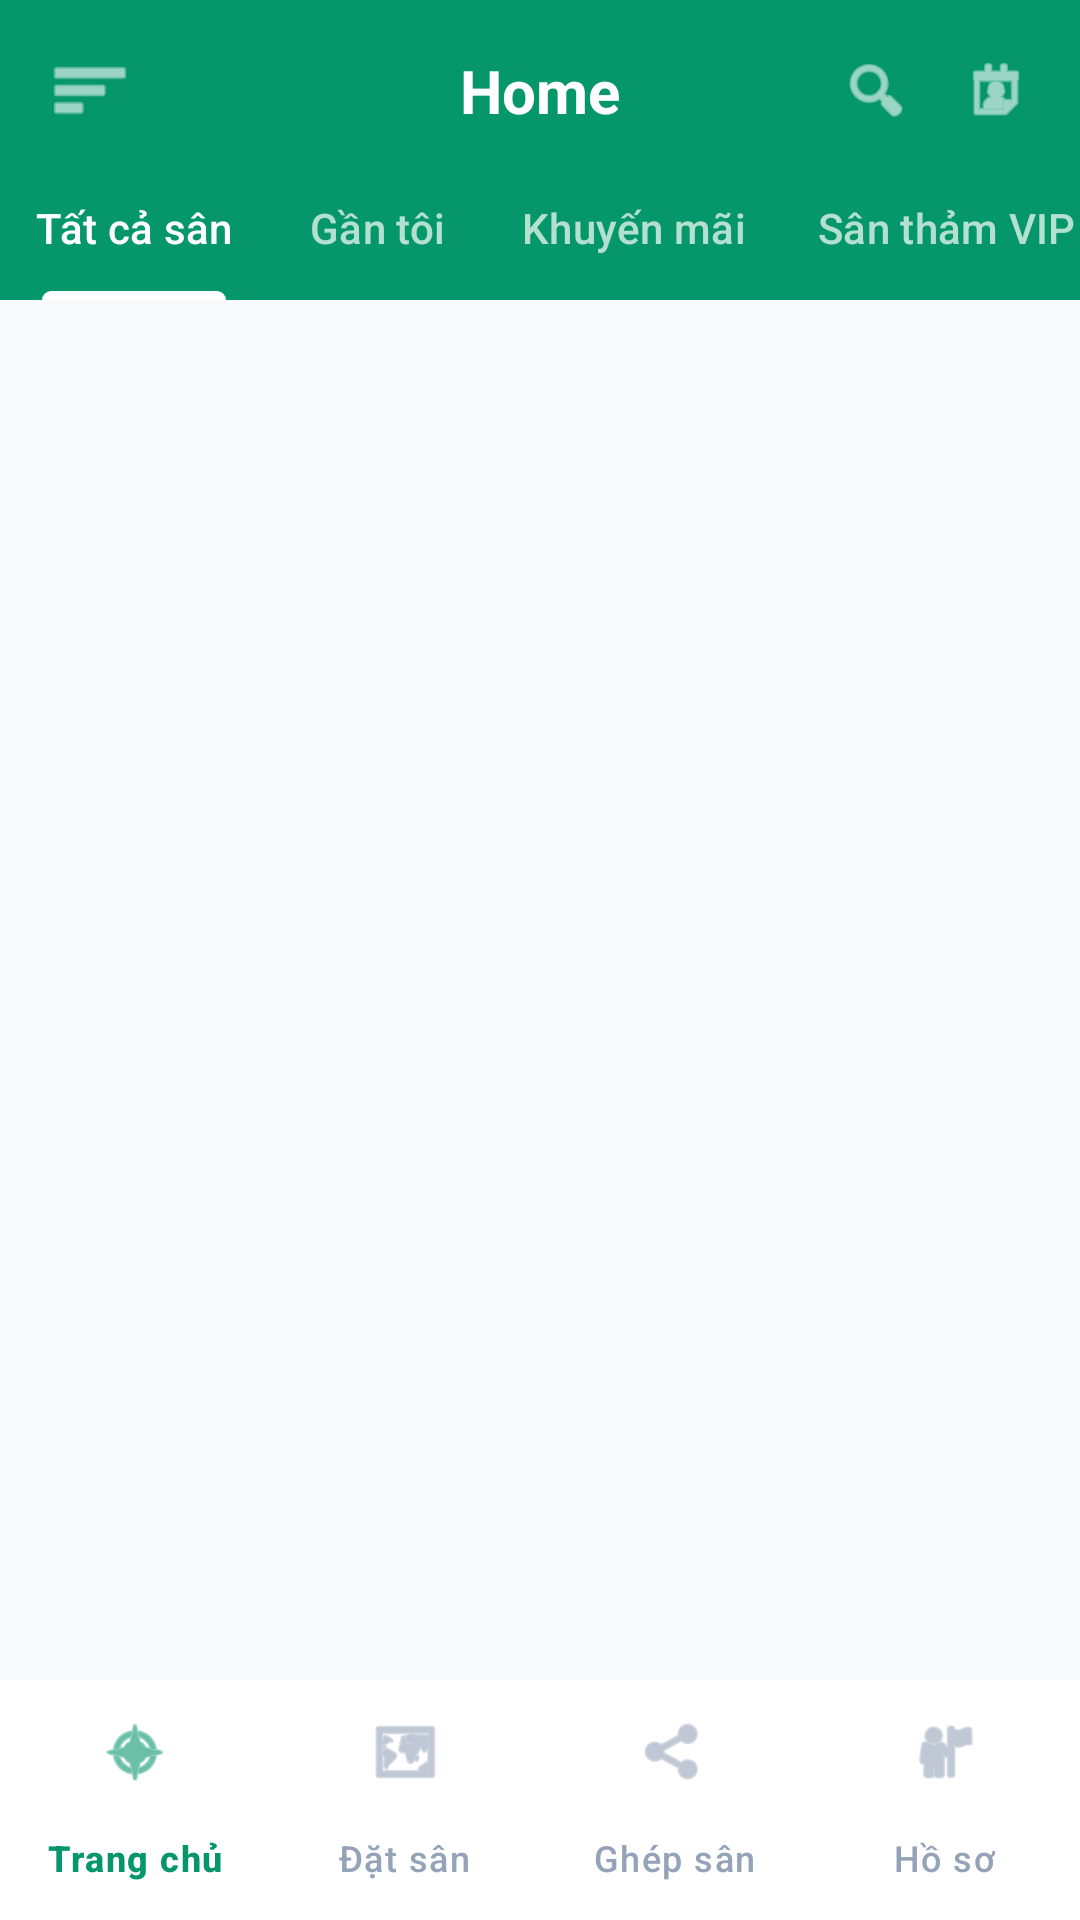

Screen size 1080w x 1920h. Icon name, then its center in pixels as (x,y):
calendar: (996,89)
search: (876,90)
sort by size: (90,90)
